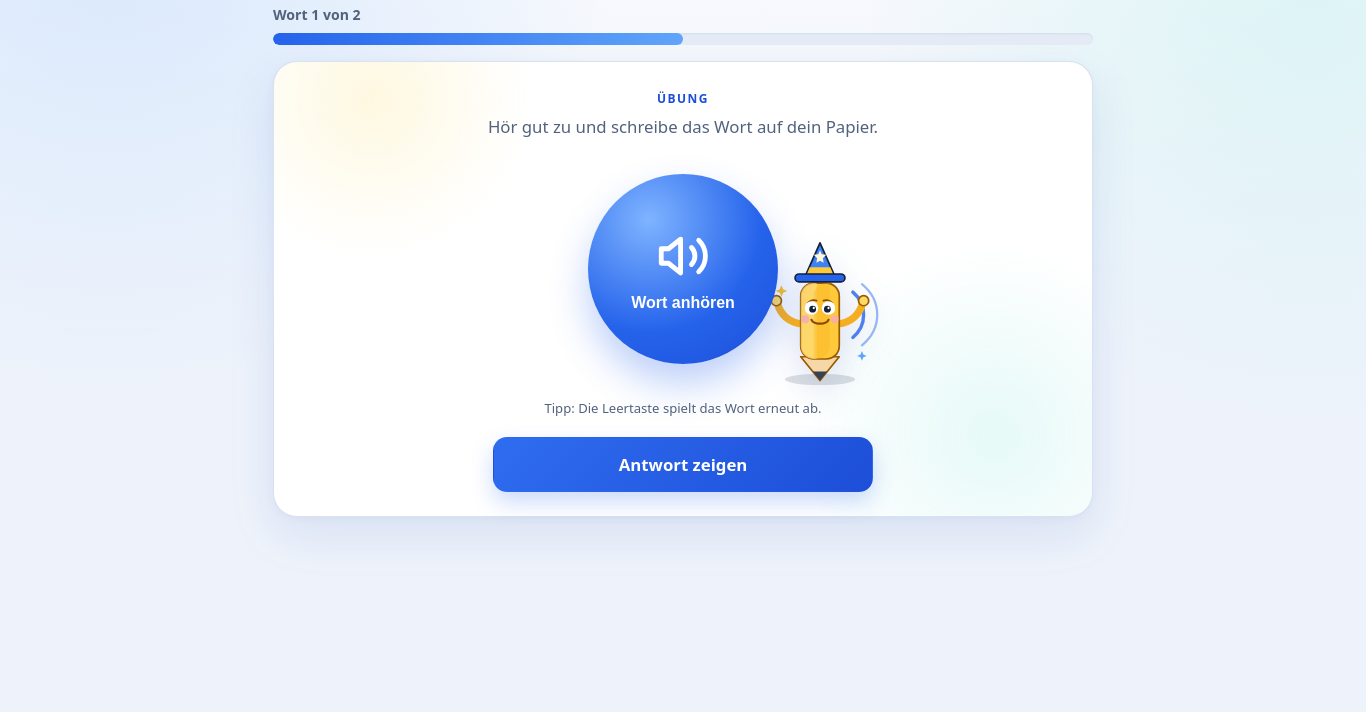
Test: SessionPage › runs a practice round and saves a successful result
Expected: the text "Wort 1 von 2" is shown, x1=273 y1=4 x2=361 y2=25
Click the button "Antwort zeigen": (683, 465) x1=493 y1=437 x2=873 y2=492
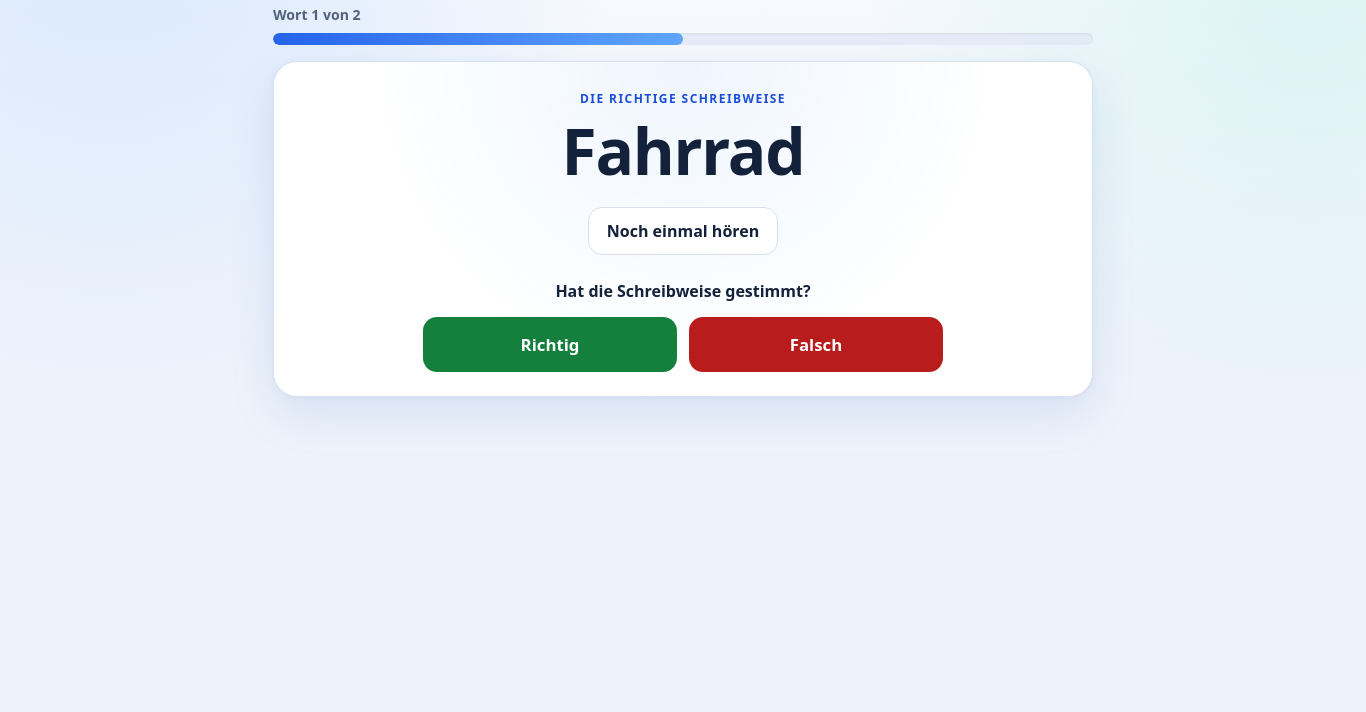
Click the button "Richtig": (550, 344) x1=423 y1=316 x2=677 y2=372
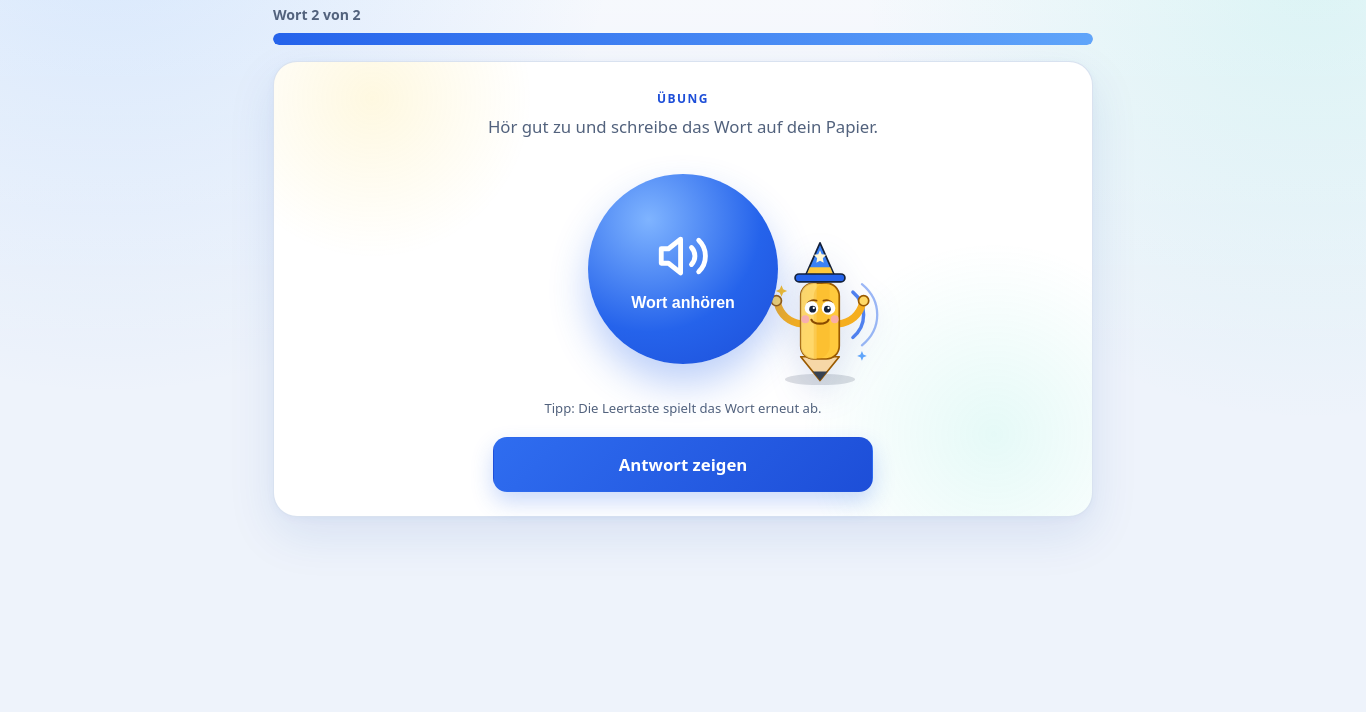
Click the button "Antwort zeigen": (683, 465) x1=493 y1=437 x2=873 y2=492
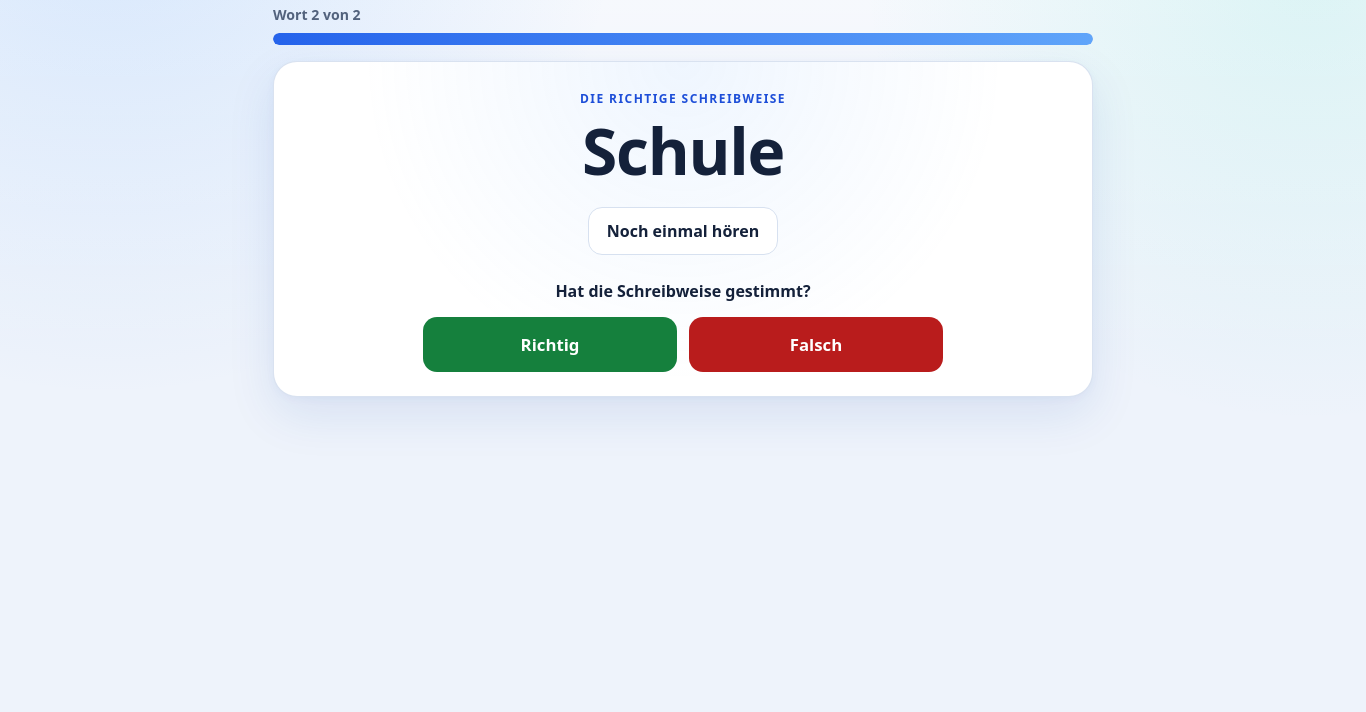
Click the button "Falsch": (816, 344) x1=689 y1=316 x2=943 y2=372
(page scrolled)
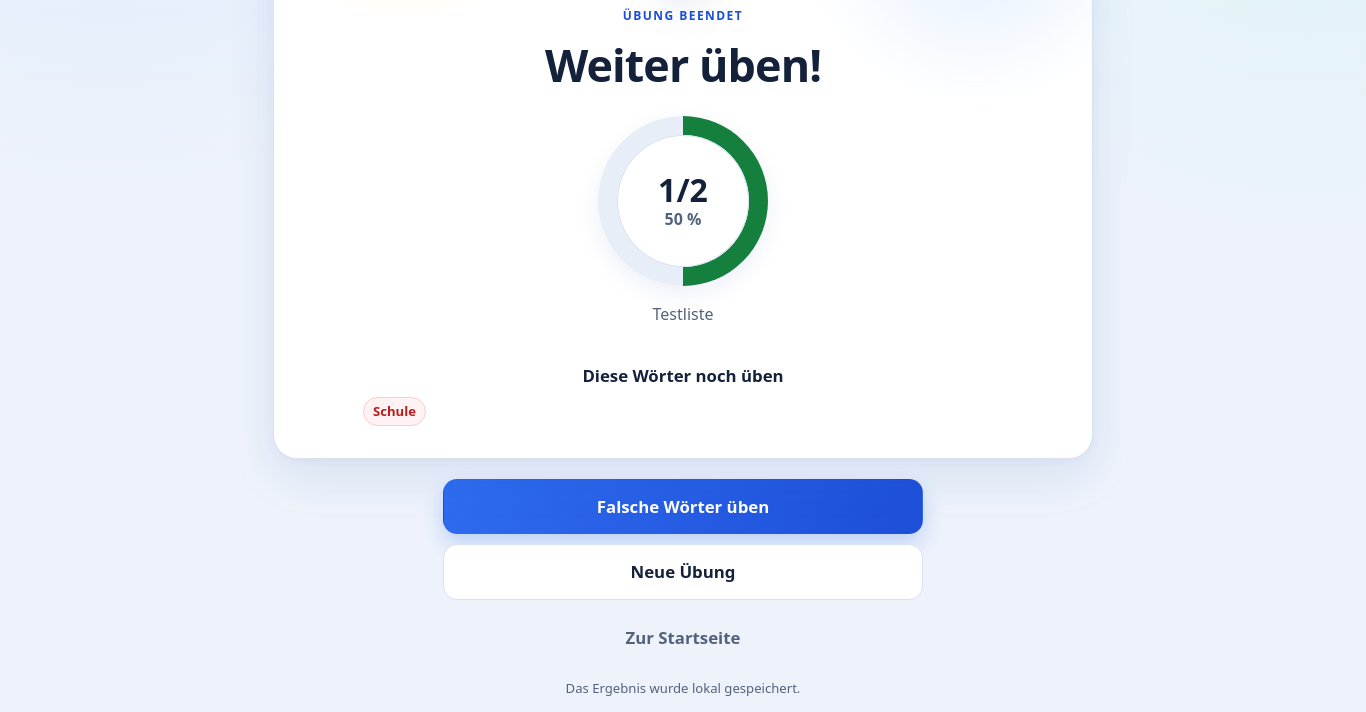
Now the heading "Weiter üben!" is shown, box x1=545 y1=39 x2=821 y2=90
Now the button "Falsche Wörter üben" is shown, box x1=443 y1=479 x2=923 y2=534
Now the text "Das Ergebnis wurde lokal gespeichert." is shown, box x1=566 y1=679 x2=800 y2=697
